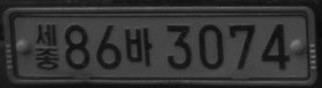0: (197, 24, 224, 69)
3: (166, 23, 192, 70)
4: (260, 23, 291, 70)
6: (95, 25, 122, 70)
7: (228, 24, 256, 70)
8: (63, 23, 90, 70)
바: (124, 27, 153, 67)
세종_V: (35, 24, 60, 70)
